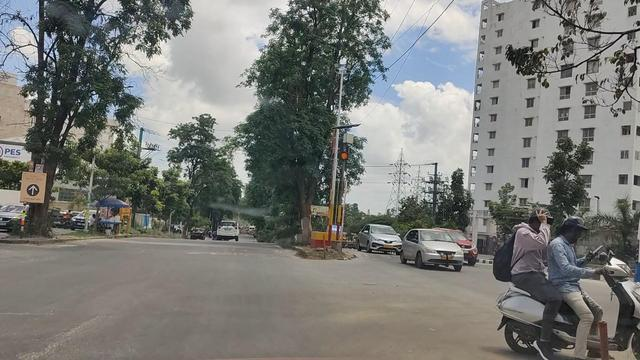RoadDamages: (28, 311, 109, 360)
